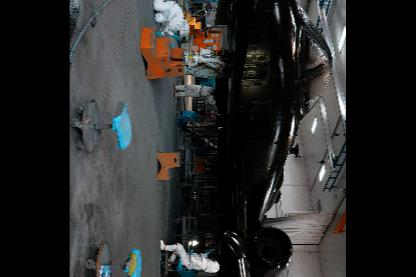A10: (168, 0, 334, 276)
